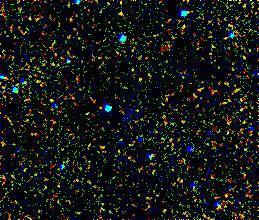star: (106, 6, 136, 36)
